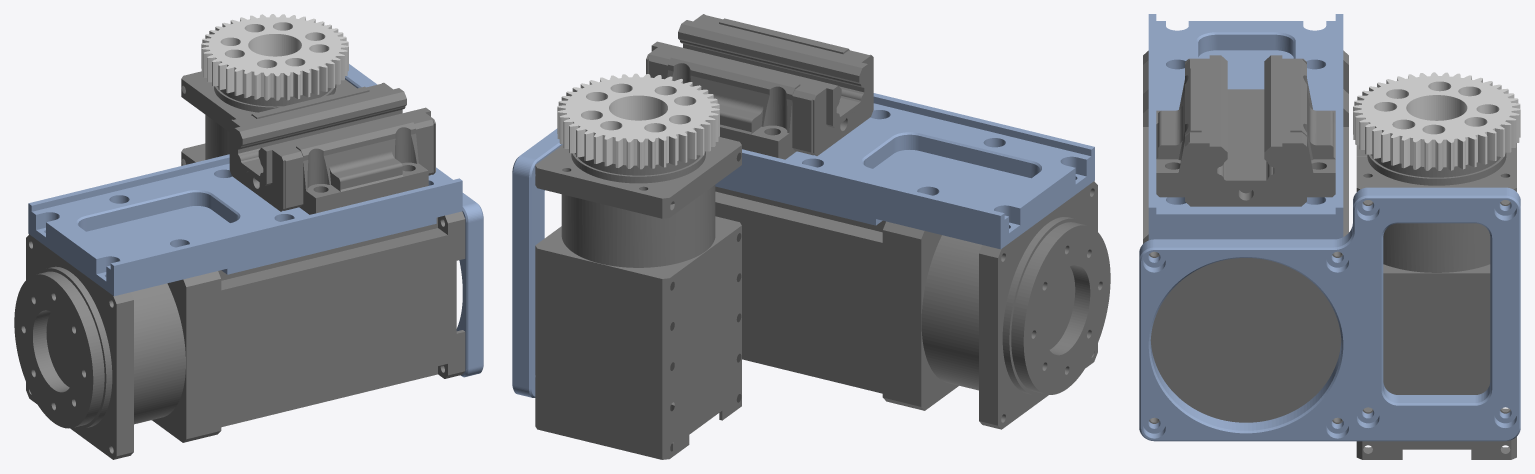
File: robotis_arm_base.dae
3 renders of one model, left to right at view 1: azimuth 30°, elevation 25°; view 2: azimuth 150°, elevation 25°; view 3: azimuth 270°, elevation 25°, orthographic. The views are drawn at different scales.
Parts seen in each view (by area): view 1: Untitled_011, Untitled_012, Untitled_010, Untitled_001, Untitled, Untitled_002, Untitled_008; view 2: Untitled_011, Untitled_002, Untitled_012, Untitled_010, Untitled_001, Untitled_005, Untitled, Untitled_008; view 3: Untitled, Untitled_011, Untitled_010, Untitled_012, Untitled_003, Untitled_001, Untitled_002.
Boxes of the visible parts, x1,y1,x2,y2 form: Untitled_011: (14, 211, 465, 459); Untitled_012: (28, 154, 462, 296); Untitled_010: (229, 82, 435, 214); Untitled_001: (201, 14, 348, 100); Untitled: (345, 64, 483, 377); Untitled_002: (181, 71, 356, 165); Untitled_008: (181, 79, 235, 131); Untitled_011: (715, 181, 1110, 429); Untitled_002: (535, 137, 741, 459); Untitled_012: (715, 93, 1094, 249); Untitled_010: (646, 14, 873, 159); Untitled_001: (557, 73, 719, 169); Untitled_005: (669, 225, 741, 458); Untitled: (512, 128, 562, 397); Untitled_008: (669, 145, 741, 217); Untitled: (1139, 187, 1520, 441); Untitled_011: (1143, 50, 1348, 423); Untitled_010: (1156, 55, 1335, 206); Untitled_012: (1148, 14, 1343, 240); Untitled_003: (1362, 273, 1511, 459); Untitled_001: (1353, 72, 1520, 170); Untitled_002: (1356, 143, 1516, 459).
Size of the model in its own units: 0.132 by 0.1 by 0.092.
